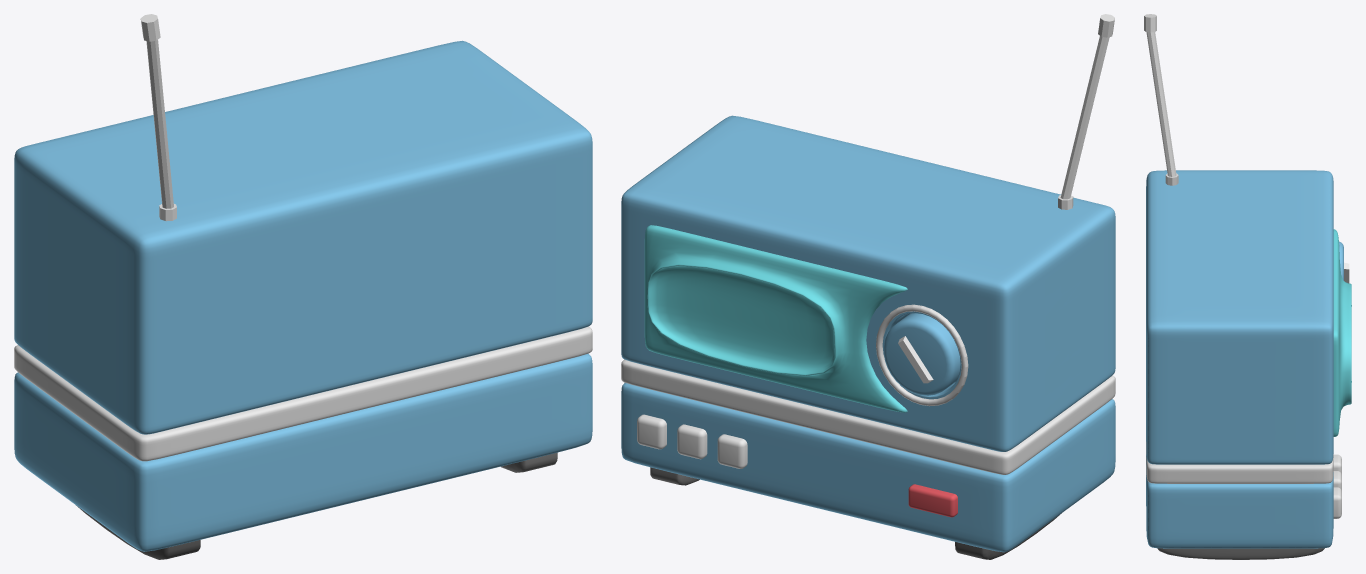
The model's file is radio.fbx.
3 renders of one model, left to right at view 1: azimuth 30°, elevation 25°; view 2: azimuth 150°, elevation 25°; view 3: azimuth 270°, elevation 25°, orthographic. The views are drawn at different scales.
Visible parts, largest first — view 1: Cube, Cube.007, Cube.006, Cylinder.001, Cube.008; view 2: Cube, Cube.007, Cube.001, Cube.006, Cylinder, Cylinder.001, Cube.010, Cube.005, Cube.004, Cube.003, Cube.002; view 3: Cube, Cube.007, Cube.006, Cube.001, Cylinder.001, Cube.009, Cube.002, Cylinder.
Part boxes in pixels (x1,y1,x2,y2): Cube: (14,40,592,434); Cube.007: (14,353,592,551); Cube.006: (14,326,592,461); Cylinder.001: (140,14,176,221); Cube.008: (76,505,200,559); Cube: (621,115,1115,451); Cube.007: (621,383,1115,552); Cube.001: (644,225,907,412); Cube.006: (621,359,1115,474); Cylinder: (883,313,960,395); Cylinder.001: (1058,14,1114,209); Cube.010: (876,304,968,406); Cube.005: (908,484,957,517); Cube.004: (717,434,747,468); Cube.003: (677,424,707,459); Cube.002: (637,414,666,449); Cube: (1146,170,1333,464); Cube.007: (1146,455,1333,548); Cube.006: (1146,442,1333,483); Cube.001: (1333,229,1351,436); Cylinder.001: (1144,14,1178,185); Cube.009: (1157,548,1324,559); Cube.002: (1333,487,1341,518); Cylinder: (1339,241,1349,283).
Bounding box in the file's own units: 16 × 18.9 × 8.86.
